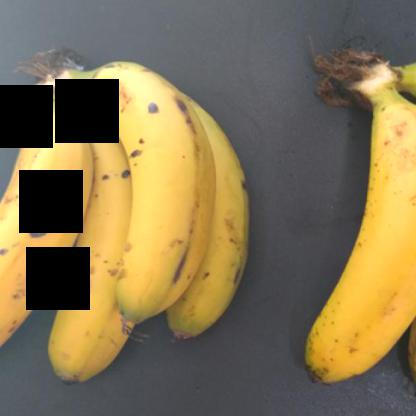ripe: (291, 102, 415, 402), (80, 46, 201, 324), (0, 6, 82, 372)
